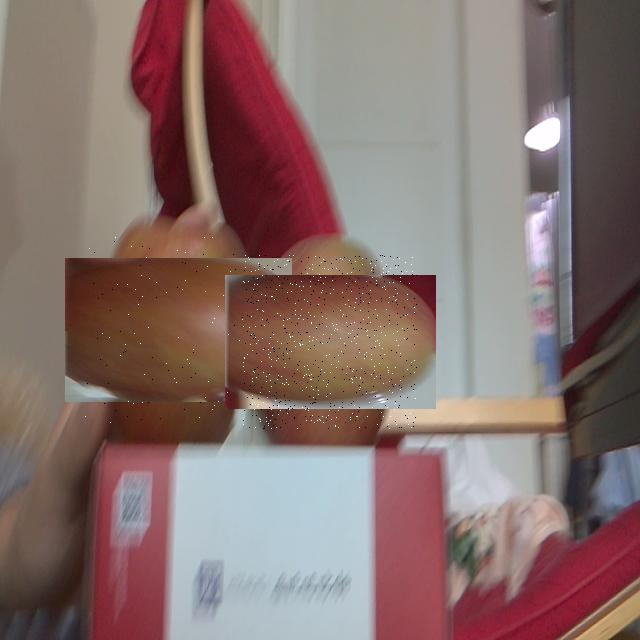apple: (85, 237, 271, 423), (243, 255, 417, 429)
